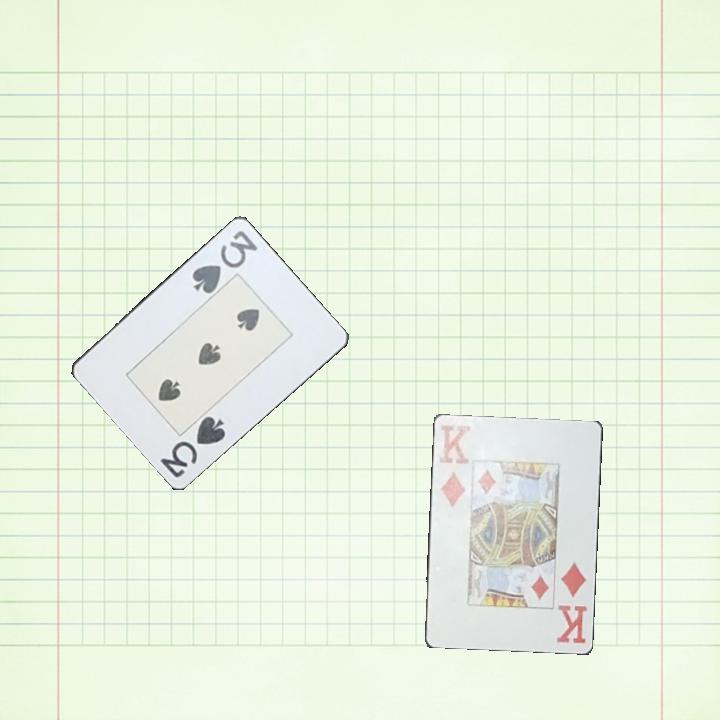3s: (188, 226, 261, 297), (157, 412, 229, 480)
Kd: (433, 419, 473, 509), (552, 558, 591, 646)
